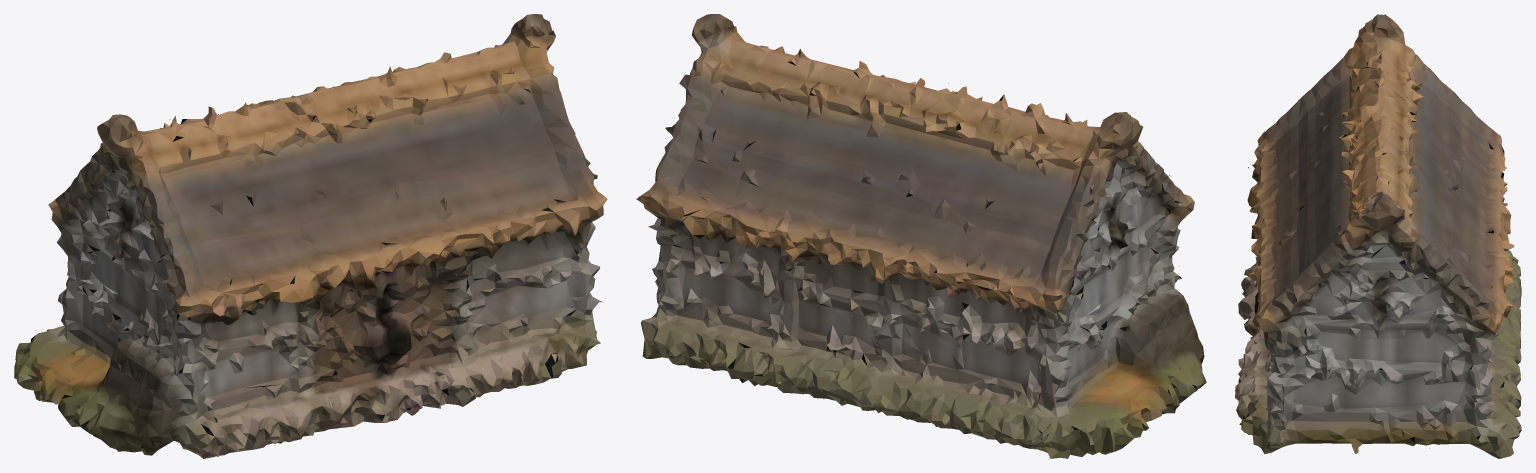
File: barn.glb
The picture shows the model from 3 angles, left to right: view 1: azimuth 30°, elevation 25°; view 2: azimuth 150°, elevation 25°; view 3: azimuth 270°, elevation 25°; orthographic projection. The views are drawn at different scales.
Visible parts, largest first — view 1: LOW_barn; view 2: LOW_barn; view 3: LOW_barn.
Boxes of the visible parts, box(x1,y1,x2,y2) form: LOW_barn: box(14, 14, 607, 458); LOW_barn: box(636, 14, 1206, 458); LOW_barn: box(1235, 14, 1521, 458).
Size of the model in its own units: 20 by 11.87 by 11.5.
1 material, 1 textured.
